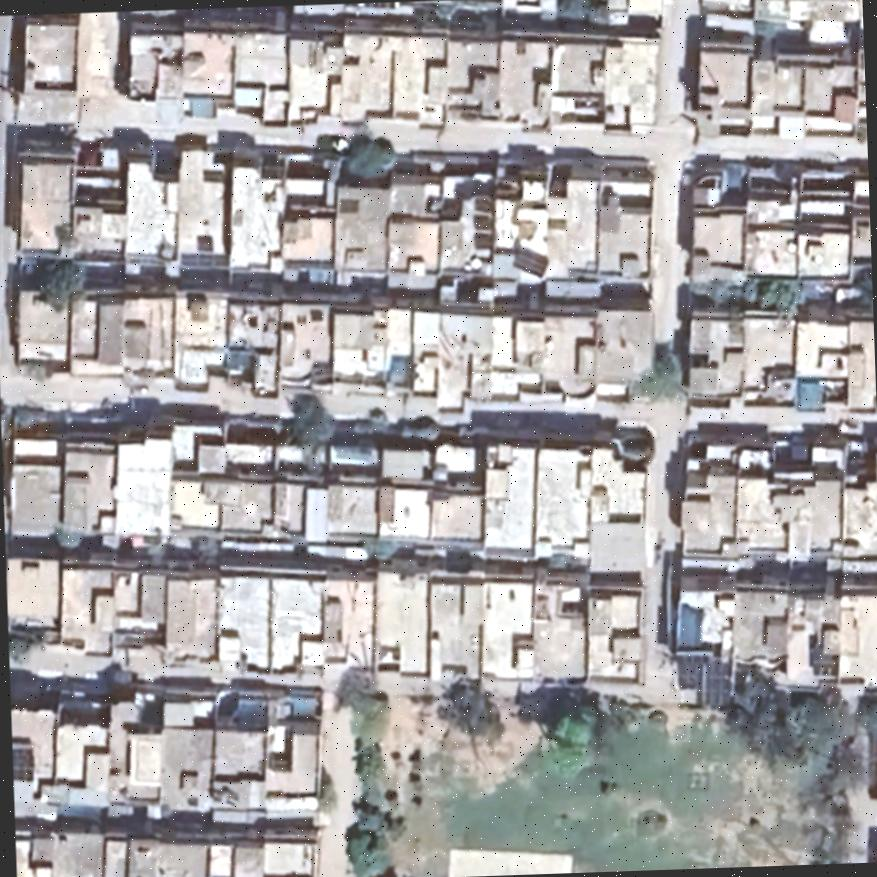Solarpanel: (675, 647, 730, 711), (507, 242, 548, 278), (10, 742, 36, 781)
